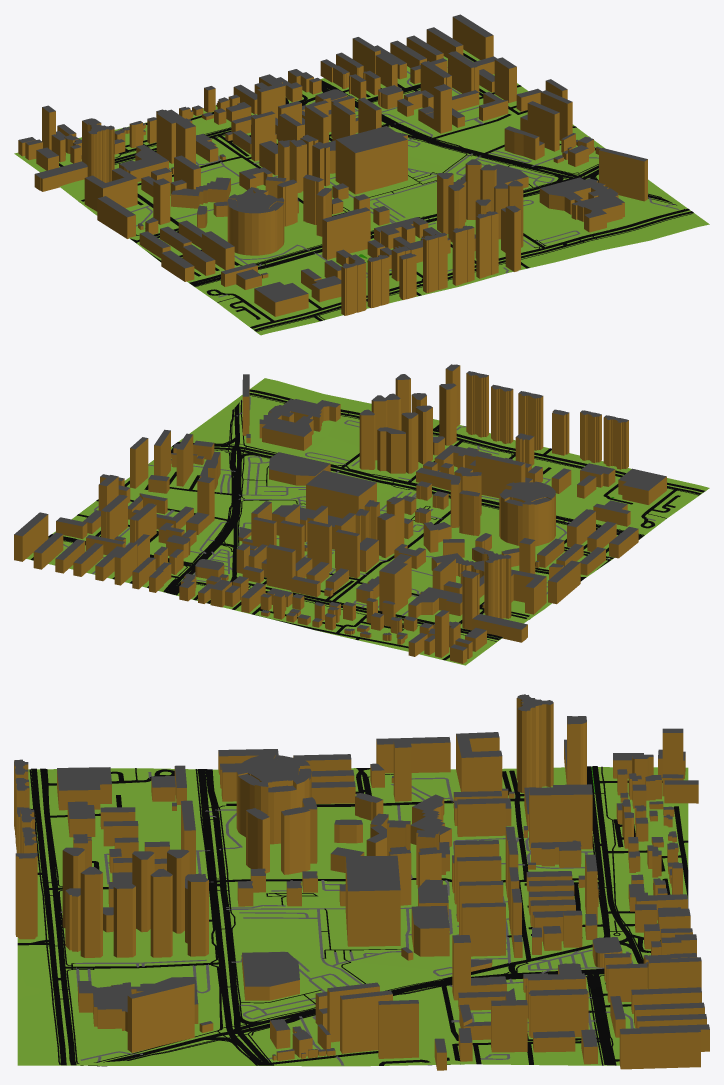
The model's file is tile_06_02.glb.
3 views of the same model, one above another, from view 1: azimuth 30°, elevation 25°; view 2: azimuth 150°, elevation 25°; view 3: azimuth 270°, elevation 25° (orthographic). The views are drawn at different scales.
Visible parts, largest first — view 1: Ub_small.osm_buildings_06_02, Terrain_06_02, Ub_small.osm_roads_secondary_06_02, Ub_small.osm_roads_primary_06_02, Ub_small.osm_roads_service_06_02, Ub_small.osm_roads_residential_06_02, Ub_small.osm_paths_footway_06_02; view 2: Ub_small.osm_buildings_06_02, Terrain_06_02, Ub_small.osm_roads_residential_06_02, Ub_small.osm_roads_primary_06_02, Ub_small.osm_roads_secondary_06_02, Ub_small.osm_roads_service_06_02, Ub_small.osm_paths_footway_06_02, Ub_small.osm_paths_cycleway_06_02; view 3: Ub_small.osm_buildings_06_02, Terrain_06_02, Ub_small.osm_roads_secondary_06_02, Ub_small.osm_roads_primary_06_02, Ub_small.osm_roads_residential_06_02, Ub_small.osm_roads_service_06_02, Ub_small.osm_paths_footway_06_02, Ub_small.osm_paths_cycleway_06_02.
Part boxes in pixels (x1,y1,x2,y2): Ub_small.osm_buildings_06_02: (18, 14, 647, 316); Terrain_06_02: (14, 49, 709, 335); Ub_small.osm_roads_secondary_06_02: (114, 80, 693, 331); Ub_small.osm_roads_primary_06_02: (189, 83, 672, 285); Ub_small.osm_roads_service_06_02: (131, 67, 678, 297); Ub_small.osm_roads_residential_06_02: (59, 53, 595, 321); Ub_small.osm_paths_footway_06_02: (114, 87, 693, 331); Ub_small.osm_buildings_06_02: (14, 364, 666, 663); Terrain_06_02: (26, 378, 709, 665); Ub_small.osm_roads_residential_06_02: (30, 424, 680, 660); Ub_small.osm_roads_primary_06_02: (166, 402, 643, 594); Ub_small.osm_roads_secondary_06_02: (48, 389, 704, 640); Ub_small.osm_roads_service_06_02: (54, 397, 655, 615); Ub_small.osm_paths_footway_06_02: (48, 389, 705, 641); Ub_small.osm_paths_cycleway_06_02: (178, 410, 643, 562); Ub_small.osm_buildings_06_02: (14, 694, 709, 1070); Terrain_06_02: (17, 767, 688, 1066); Ub_small.osm_roads_secondary_06_02: (31, 766, 643, 1065); Ub_small.osm_roads_primary_06_02: (88, 769, 604, 1066); Ub_small.osm_roads_residential_06_02: (17, 768, 688, 1065); Ub_small.osm_roads_service_06_02: (60, 772, 633, 1065); Ub_small.osm_paths_footway_06_02: (29, 766, 643, 1066); Ub_small.osm_paths_cycleway_06_02: (104, 769, 522, 1066).
Bounding box in the file's own units: 1037 × 132 × 965.
